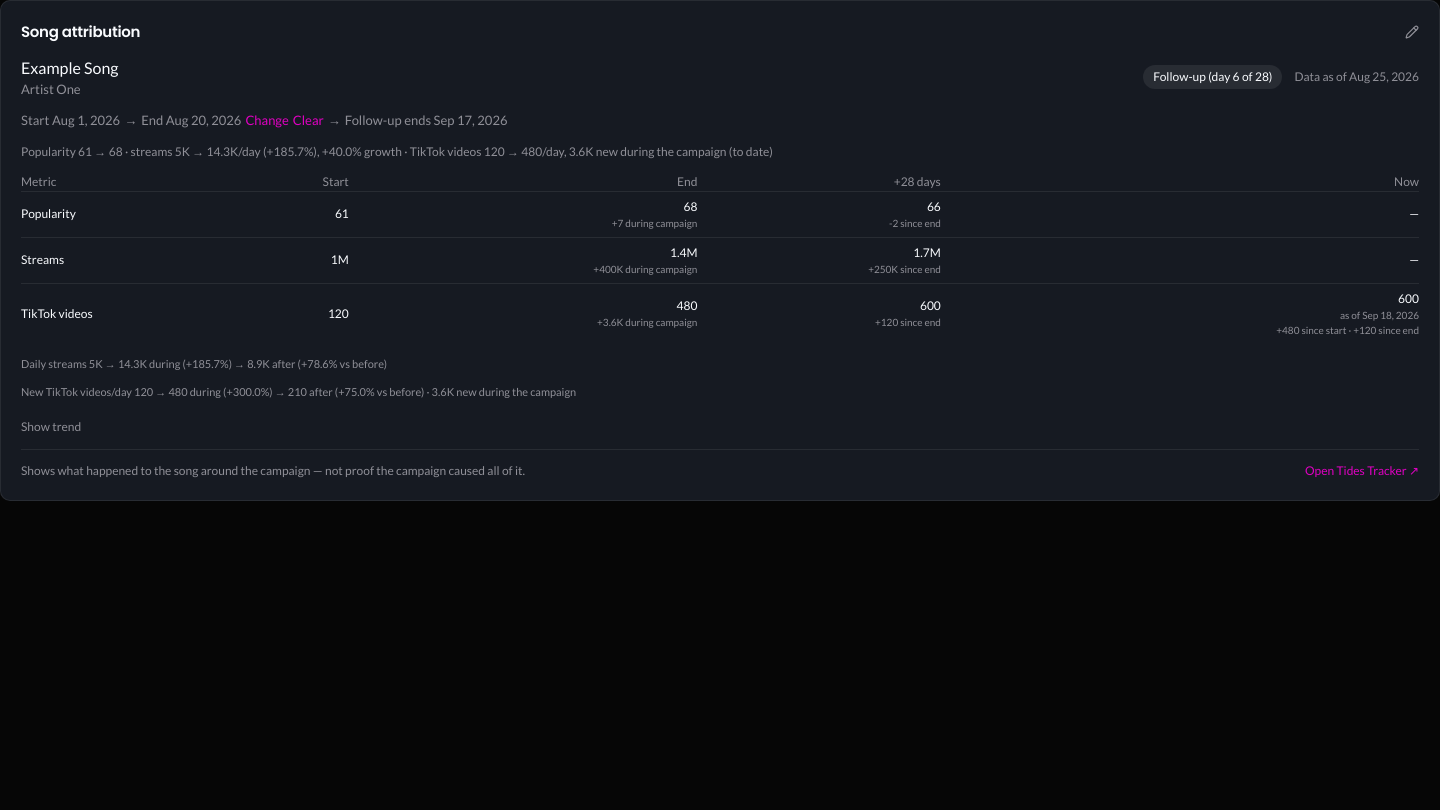
Test: <PopScoreCard /> attribution › dims smoothed bars with a lighter dim fill and labels the estimate
Step 1. Click the button "Show trend" → (51, 426), box x1=21 y1=418 x2=81 y2=436
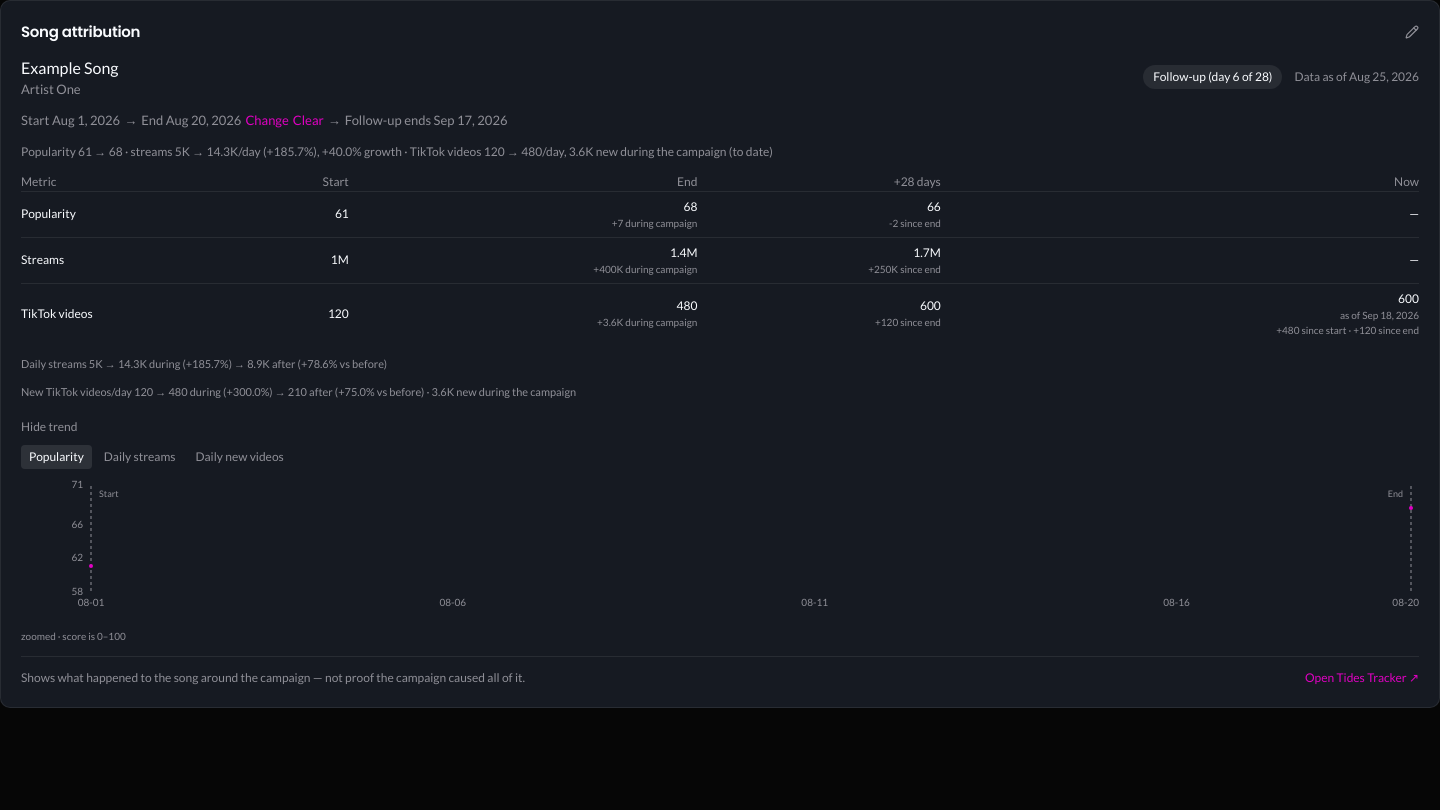
Step 2. Click the button "Daily streams" → (140, 456), box x1=96 y1=444 x2=184 y2=468
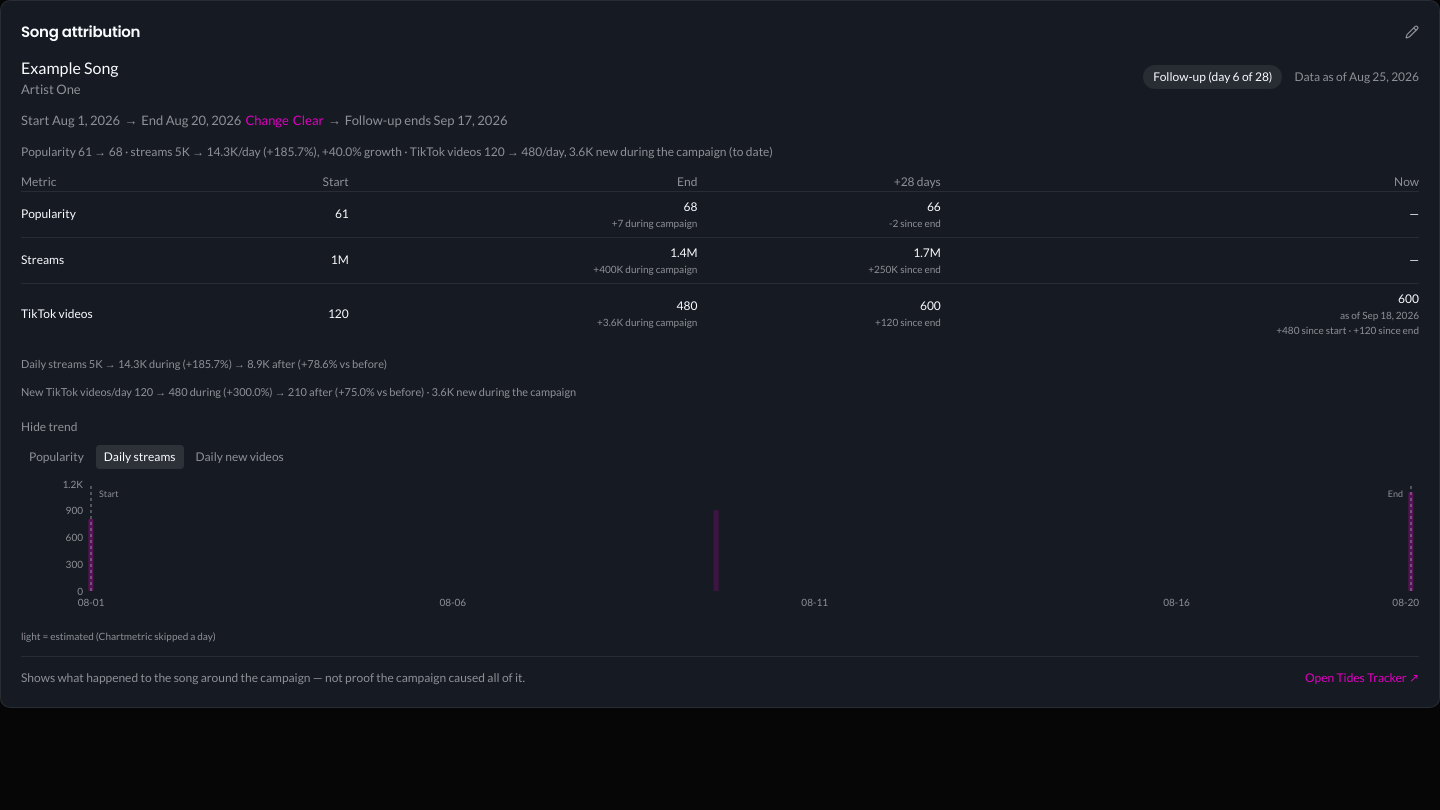
expect the text "light = estimated (Chartmetric skipped a day)" is shown: met, box x1=21 y1=630 x2=216 y2=642
